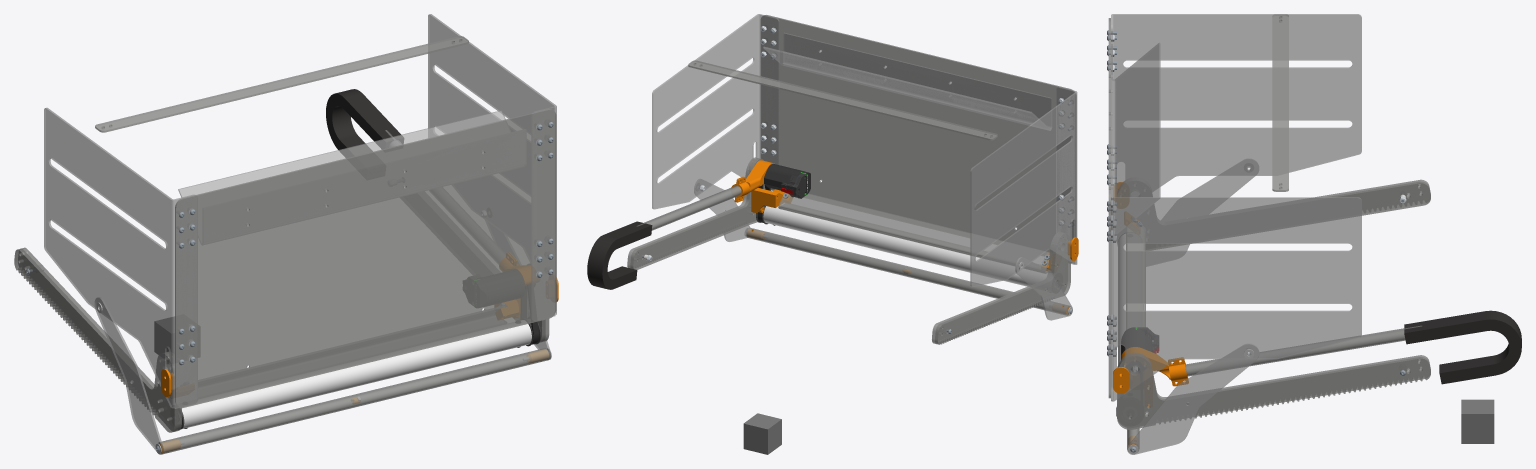
File: model_0.glb.glb
The picture shows the model from 3 angles, left to right: view 1: azimuth 30°, elevation 25°; view 2: azimuth 150°, elevation 25°; view 3: azimuth 270°, elevation 25°; orthographic projection. The views are drawn at different scales.
Visible parts, largest first — view 1: Front Hopper Wall, Moving Hopper Wall-Mirrored, Moving Hopper Wall, 24.5in Polycarbonate tube, Top Deflector, Bottom Bar, Intake Arm 3, Cross Piece, E Chain, Deployable arm, Intake Arm 1, Kraken X44 Brushless Motor (+1 smaller); view 2: Front Hopper Wall, Moving Hopper Wall, Moving Hopper Wall-Mirrored, Top Deflector, Intake Arm 3 (×2), Unjam Plate, 24.5in Polycarbonate tube, Intake Arm 1 (×2), Bottom Bar, Cross Piece, Deployable arm (×2), E Chain (+5 smaller); view 3: Moving Hopper Wall, Moving Hopper Wall-Mirrored, Intake Arm 1 (×2), Intake Arm 3 (×2), Top Deflector, Deployable arm (×2), E Chain, Cross Piece, Wire Tube, Unjam Plate, Origin Cube, Front Hopper Wall (+4 smaller).
Boxes of the visible parts, x1,y1,x2,y2 form: Front Hopper Wall: (175, 109, 556, 408); Moving Hopper Wall-Mirrored: (44, 107, 197, 408); Moving Hopper Wall: (428, 14, 556, 316); 24.5in Polycarbonate tube: (182, 320, 531, 428); Top Deflector: (178, 110, 525, 242); Bottom Bar: (158, 348, 549, 454); Intake Arm 3: (14, 248, 178, 432); Cross Piece: (95, 36, 468, 132); E Chain: (326, 89, 403, 157); Deployable arm: (94, 297, 163, 454); Intake Arm 1: (21, 247, 181, 431); Kraken X44 Brushless Motor: (474, 270, 524, 307); Front Hopper Wall: (761, 15, 1076, 262); Moving Hopper Wall: (652, 14, 779, 209); Moving Hopper Wall-Mirrored: (970, 87, 1077, 286); Top Deflector: (763, 32, 1052, 130); Intake Arm 3 (×2): (627, 157, 1070, 344); Unjam Plate: (778, 192, 1049, 273); 24.5in Polycarbonate tube: (763, 205, 1047, 286); Intake Arm 1 (×2): (630, 158, 1067, 343); Bottom Bar: (746, 227, 1070, 315); Cross Piece: (688, 60, 997, 140); Deployable arm (×2): (694, 179, 1072, 320); E Chain: (587, 221, 652, 289); Moving Hopper Wall: (1111, 187, 1361, 401); Moving Hopper Wall-Mirrored: (1111, 14, 1361, 196); Intake Arm 1 (×2): (1117, 179, 1430, 427); Intake Arm 3 (×2): (1117, 177, 1430, 429); Top Deflector: (1111, 42, 1160, 233); Deployable arm (×2): (1127, 159, 1259, 454); E Chain: (1404, 310, 1521, 384); Cross Piece: (1272, 14, 1288, 191); Wire Tube: (1185, 325, 1421, 376); Unjam Plate: (1126, 222, 1145, 329); Origin Cube: (1461, 399, 1494, 443); Front Hopper Wall: (1108, 18, 1110, 398).
Bounding box in the file's own units: 0.6808 × 0.5683 × 0.6348.
